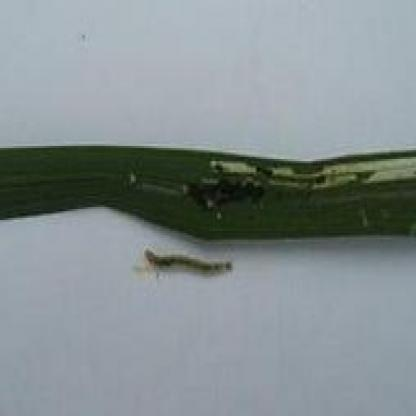leaf-folder: (138, 234, 248, 292)
